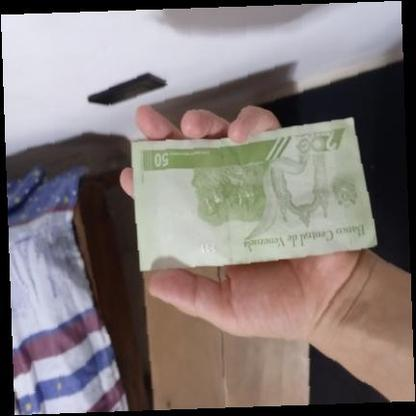fifty-back-vef: (130, 116, 378, 272)
